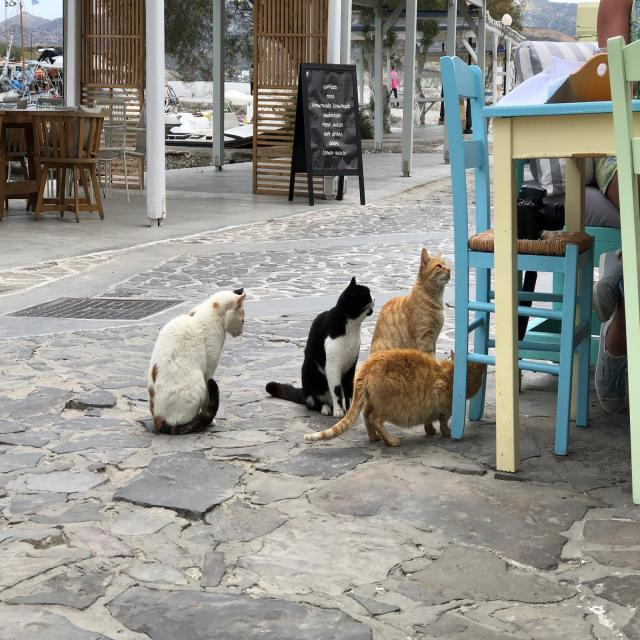cat: (265, 277, 375, 418), (305, 348, 453, 447), (148, 288, 245, 434), (370, 248, 450, 357), (466, 362, 485, 398)
